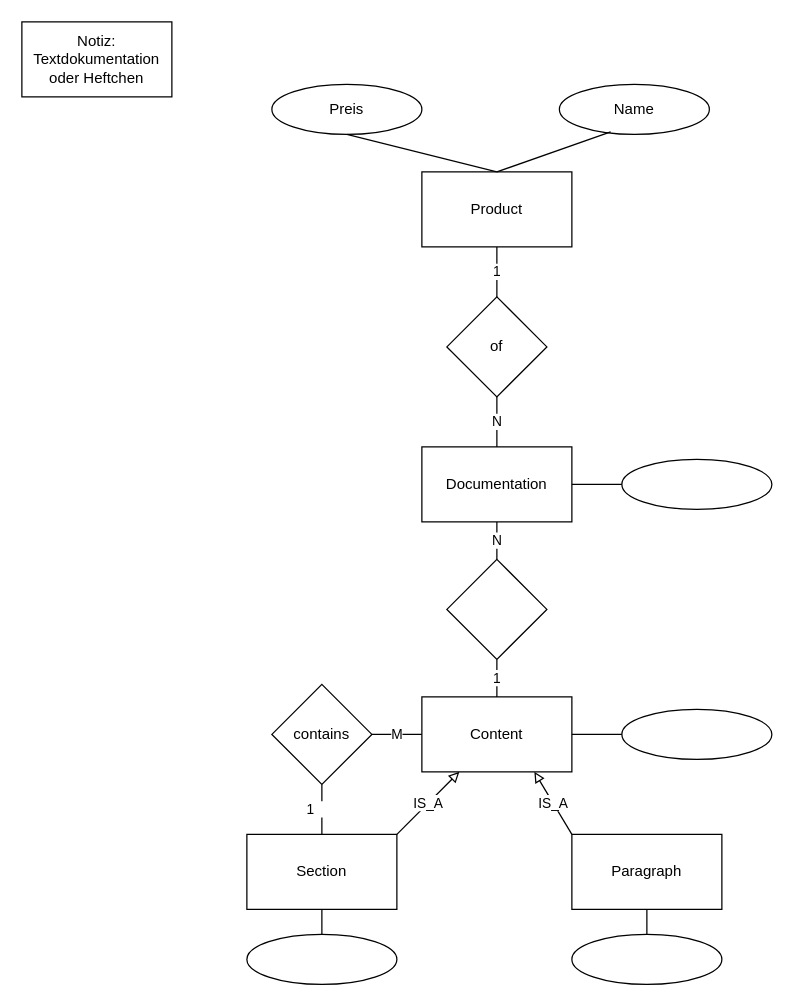
The diagram is 794 pixels wide and 1006 high, and some of its shapes have lost their labels. The shapes that lost their labels are listed below. From the top down, each one's box as (x1, y1, x2, y2) in pixels, then its label:
(621, 458, 772, 509): release date
(446, 558, 547, 659): described by
(621, 708, 772, 759): category
(246, 933, 397, 984): title
(571, 933, 722, 984): length
